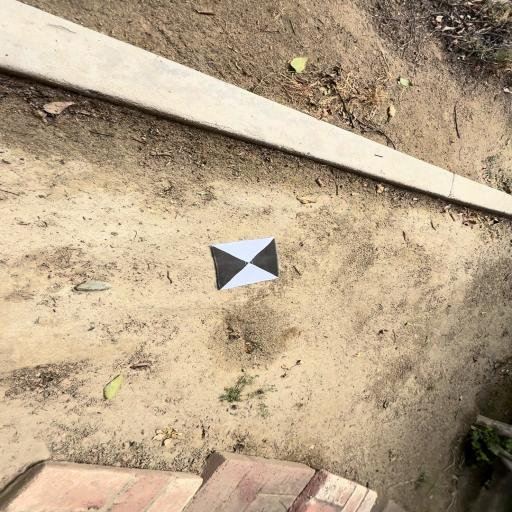target: (212, 238, 280, 290)
